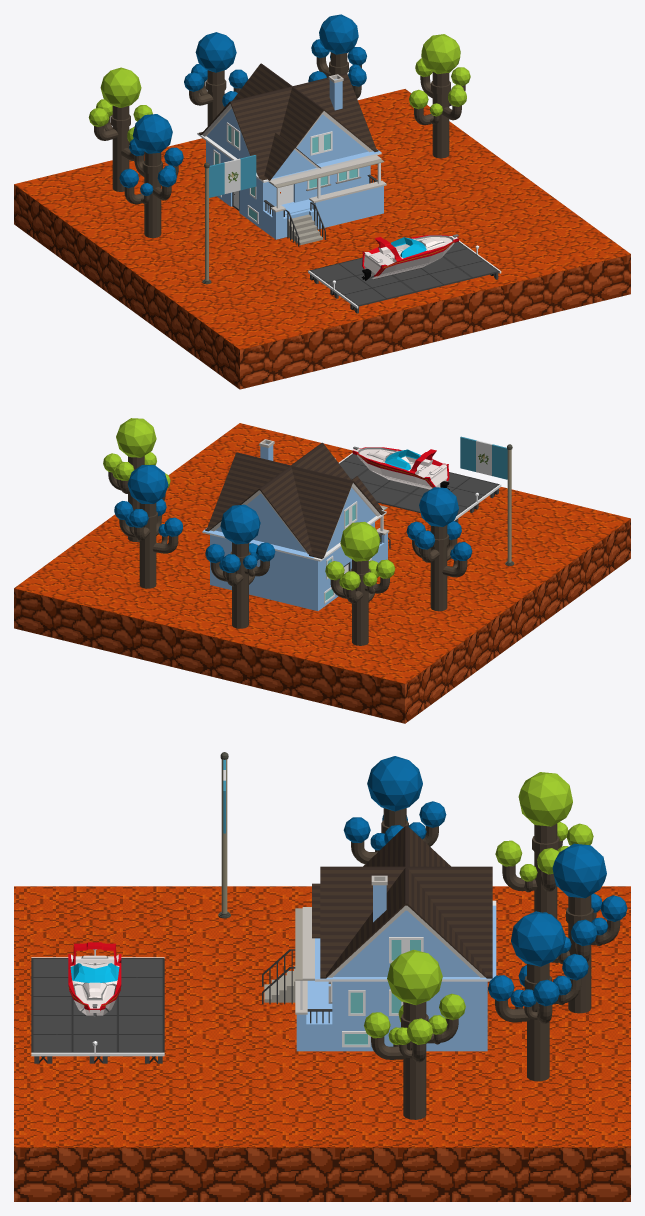
3 views of the same model, one above another, from view 1: azimuth 30°, elevation 25°; view 2: azimuth 150°, elevation 25°; view 3: azimuth 270°, elevation 25° (orthographic). The views are drawn at different scales.
Parts seen in each view (by area): view 1: Cube.001, Cube.1594, VEHICLES_BOAT, OBJRANDOM_GUATEMALAN_FLAG; view 2: Cube.001, Cube.1594, VEHICLES_BOAT, OBJRANDOM_GUATEMALAN_FLAG; view 3: Cube.001, Cube.1594, VEHICLES_BOAT, OBJRANDOM_GUATEMALAN_FLAG.
Part boxes in pixels (left/top/right/bottom): Cube.001: left=14, top=14, right=630, bottom=389; Cube.1594: left=197, top=63, right=386, bottom=246; VEHICLES_BOAT: left=361, top=234, right=458, bottom=280; OBJRANDOM_GUATEMALAN_FLAG: left=202, top=155, right=256, bottom=284; Cube.001: left=14, top=418, right=630, bottom=723; Cube.1594: left=202, top=439, right=390, bottom=611; VEHICLES_BOAT: left=352, top=446, right=449, bottom=489; OBJRANDOM_GUATEMALAN_FLAG: left=460, top=436, right=514, bottom=565; Cube.001: left=14, top=756, right=630, bottom=1201; Cube.1594: left=262, top=825, right=496, bottom=1051; VEHICLES_BOAT: left=68, top=942, right=121, bottom=1016; OBJRANDOM_GUATEMALAN_FLAG: left=218, top=752, right=230, bottom=918.
Size of the model in its own units: 4000 by 1687 by 4000.
32 materials, 5 textured.
